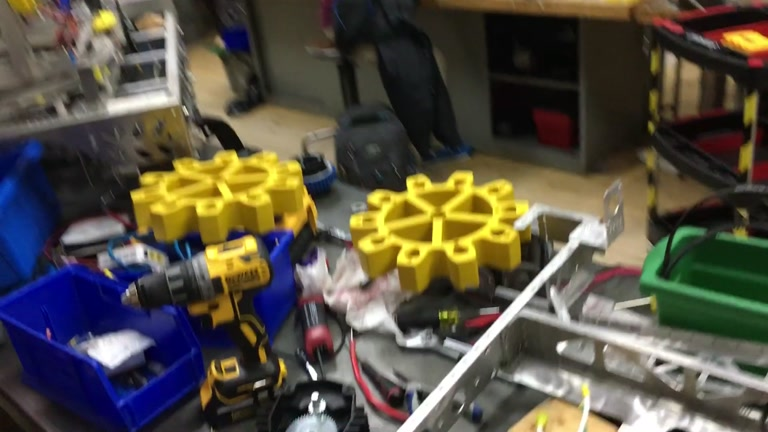gear: (349, 169, 531, 292), (127, 150, 303, 245)
